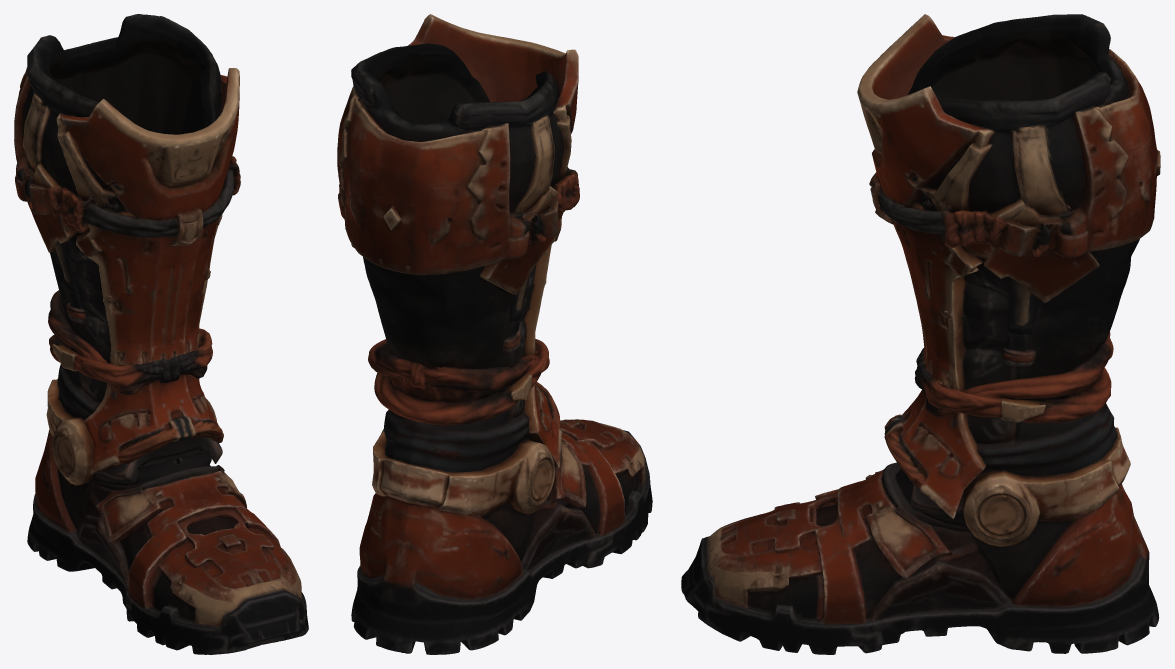
File: boot.glb
3 renders of one model, left to right at view 1: azimuth 30°, elevation 25°; view 2: azimuth 150°, elevation 25°; view 3: azimuth 270°, elevation 25°, orthographic. The views are drawn at different scales.
Parts seen in each view (by area): view 1: geometry_0; view 2: geometry_0; view 3: geometry_0.
Part boxes in pixels (x1=…): geometry_0: x1=14, y1=14, x2=308, y2=654; geometry_0: x1=337, y1=14, x2=652, y2=654; geometry_0: x1=681, y1=14, x2=1160, y2=654.
Size of the model in its own units: 0.3938 by 0.9995 by 0.763.
1 material, 1 textured.
